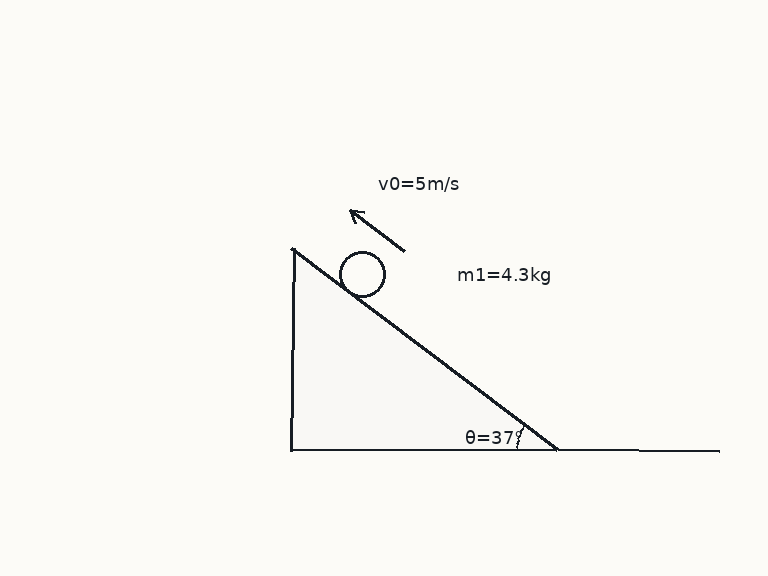ball: (337, 249, 387, 299)
ramp: (290, 247, 559, 451)
